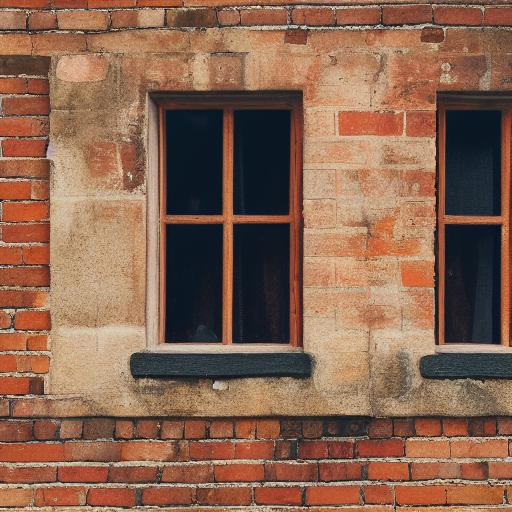Window: (48, 29, 512, 415)
